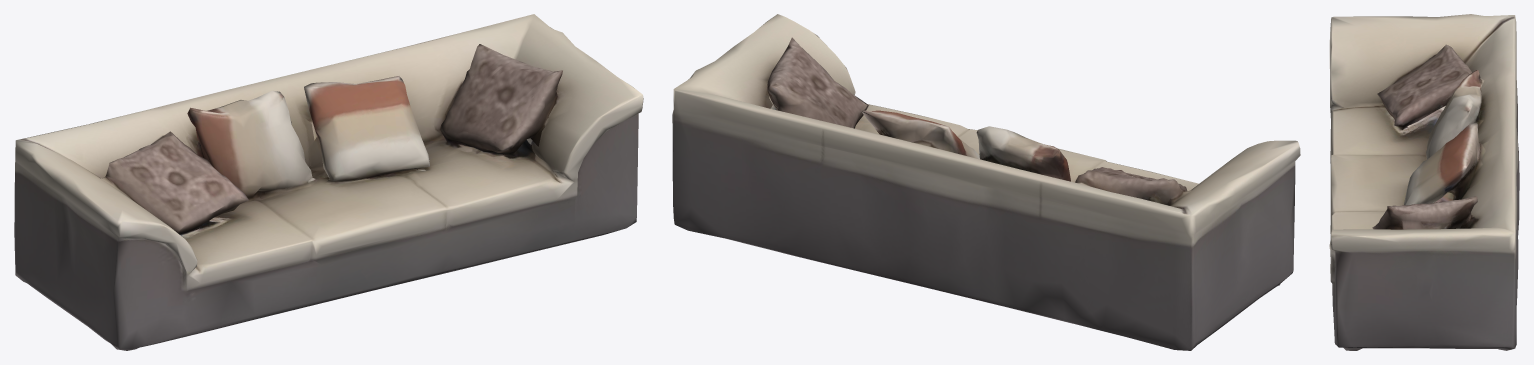
The model's file is sofa 1.fbx.
3 renders of one model, left to right at view 1: azimuth 30°, elevation 25°; view 2: azimuth 150°, elevation 25°; view 3: azimuth 270°, elevation 25°, orthographic. The views are drawn at different scales.
Parts seen in each view (by area): view 1: tripo_node_c8c91d46; view 2: tripo_node_c8c91d46; view 3: tripo_node_c8c91d46.
Boxes of the visible parts, x1,y1,x2,y2 form: tripo_node_c8c91d46: (14,14,643,350); tripo_node_c8c91d46: (672,14,1300,350); tripo_node_c8c91d46: (1329,14,1519,350).
Bounding box in the file's own units: 1 × 0.2816 × 0.3634.
1 material, 1 textured.
